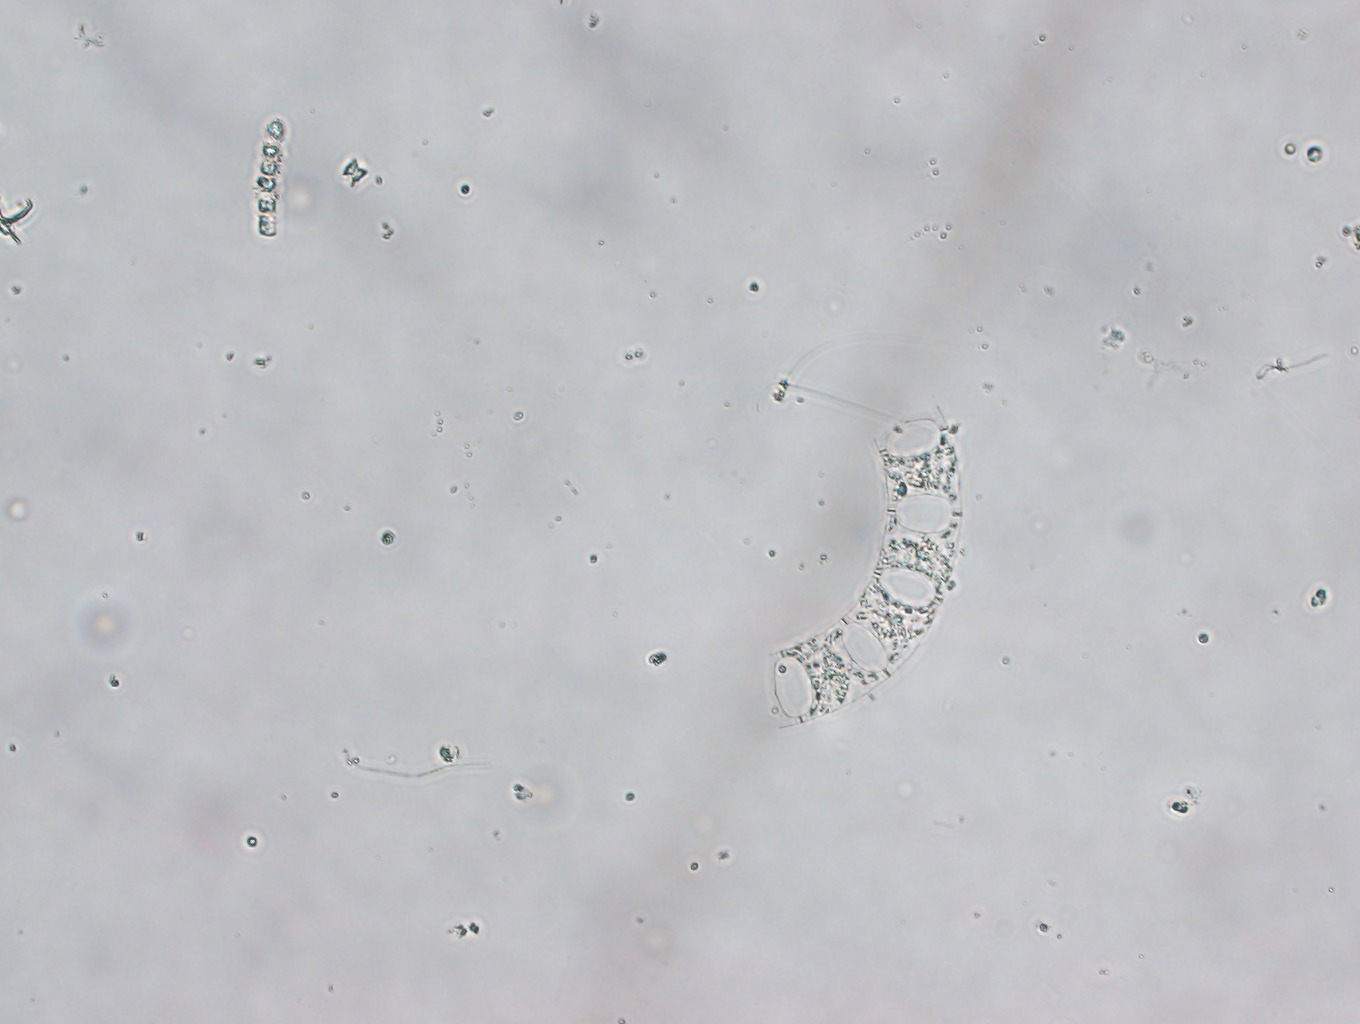eucampia: (747, 397, 970, 737)
skeletonema: (235, 100, 295, 242)
